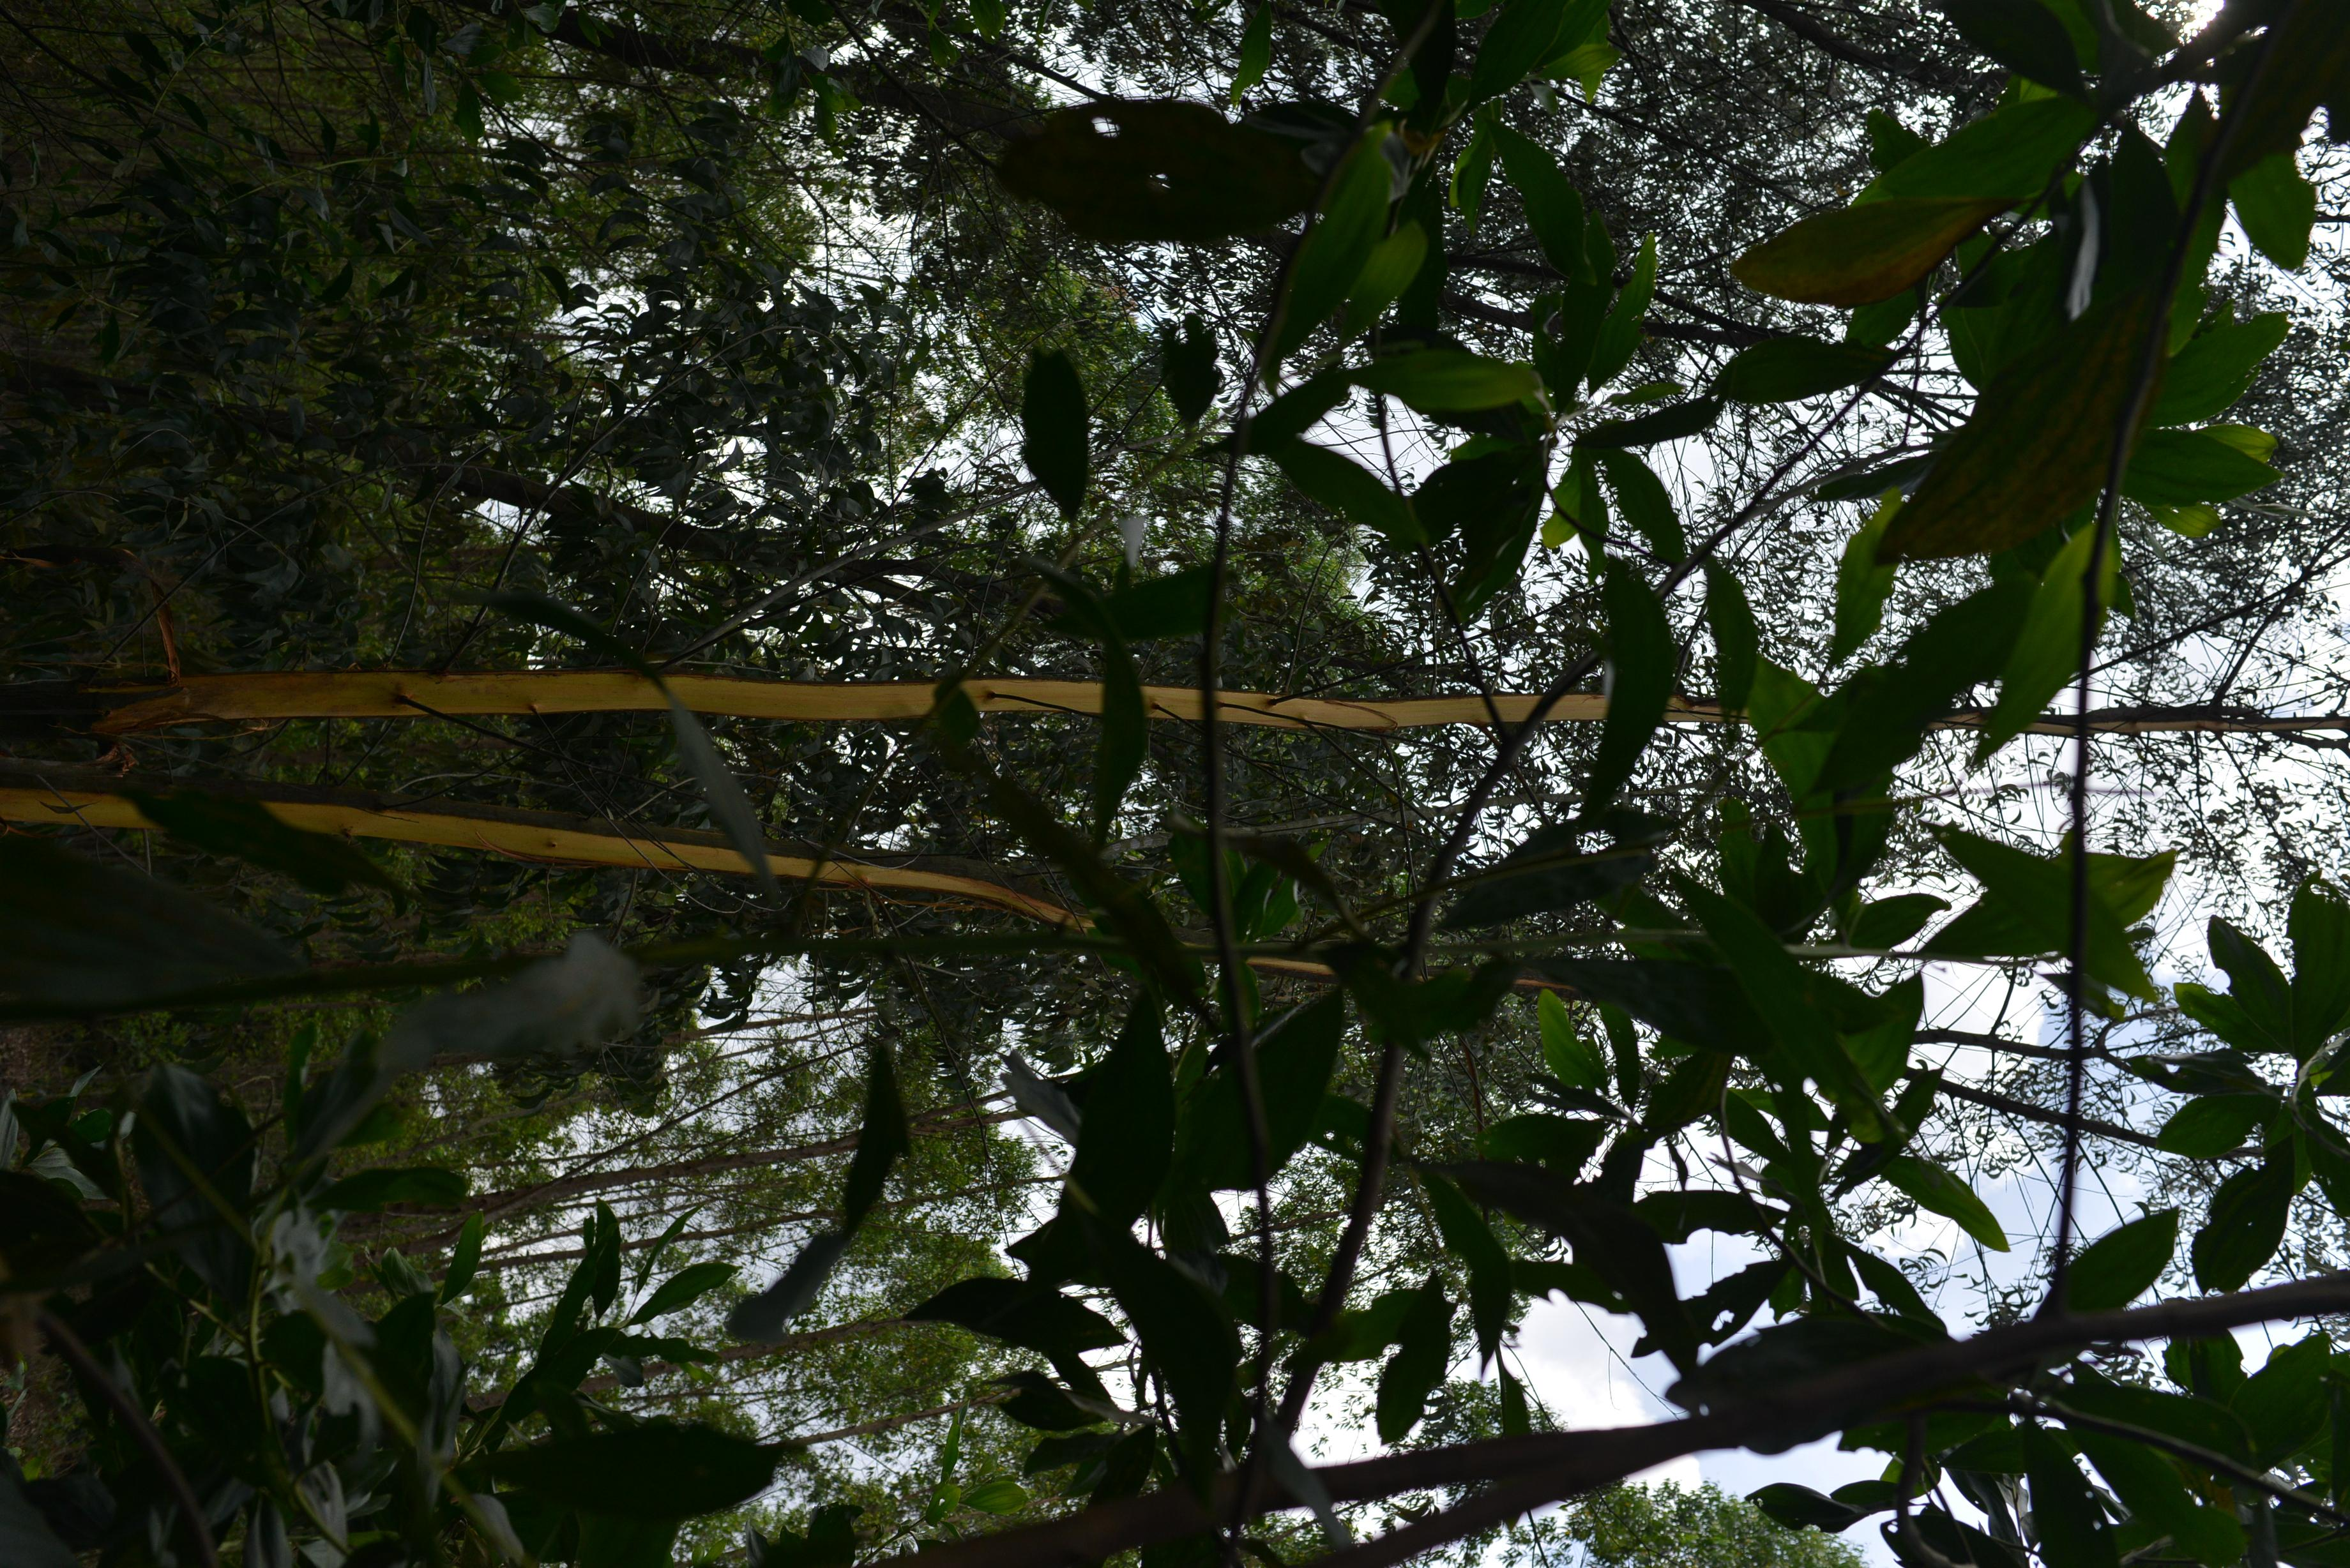Mammals Attack: (0, 787, 1337, 989), (30, 654, 2350, 737)
